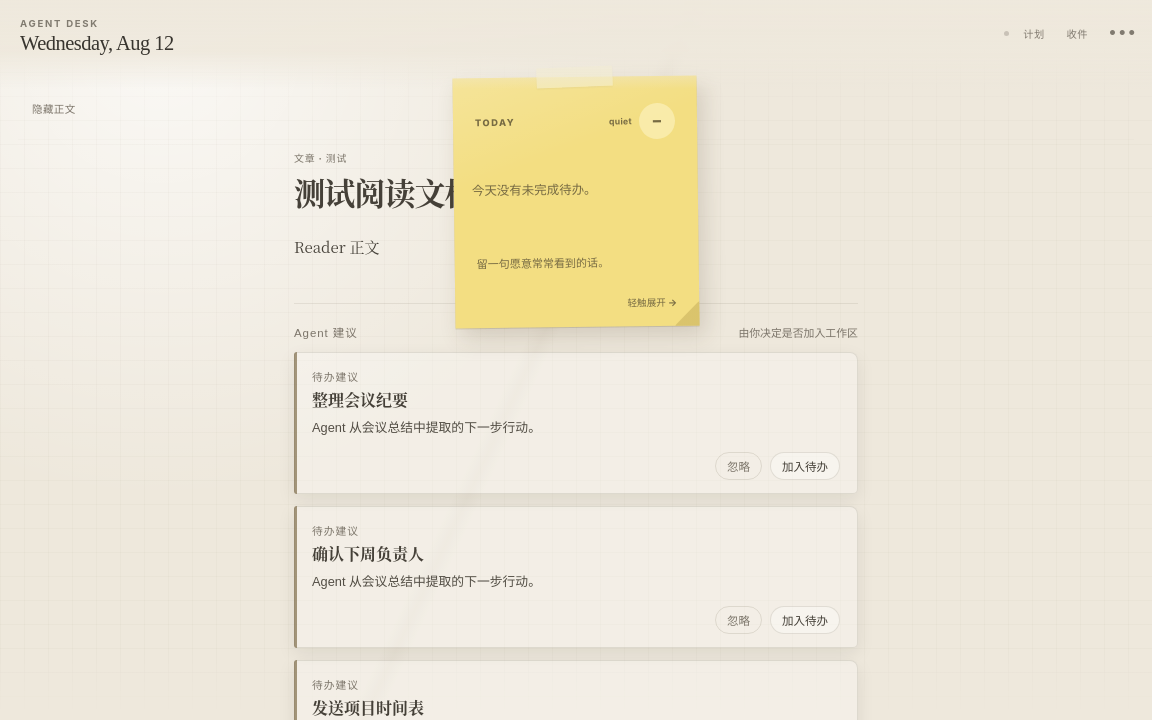
Test: StickyHome M1-B4 › adds three reviewed Agent suggestions to Sticky Todo only after acceptance
Click the 1st button "加入待办".
click(805, 466)  # box [770,452,840,480]
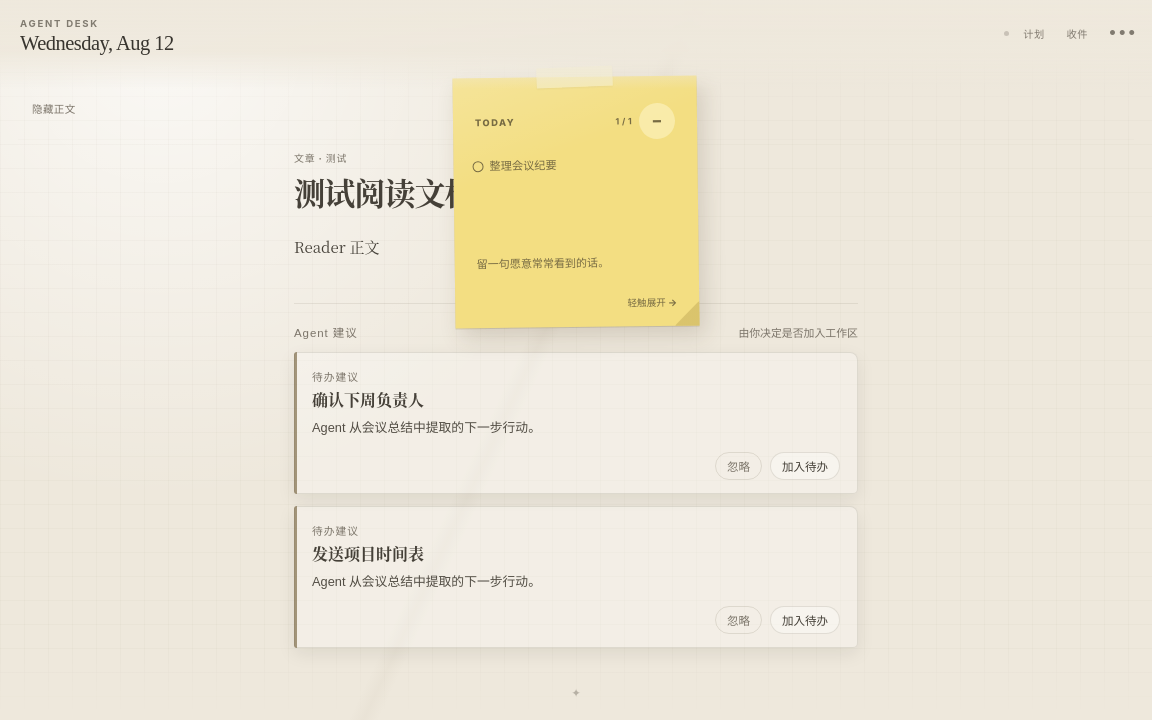
Click the 1st button "加入待办".
click(805, 466)  # box [770,452,840,480]
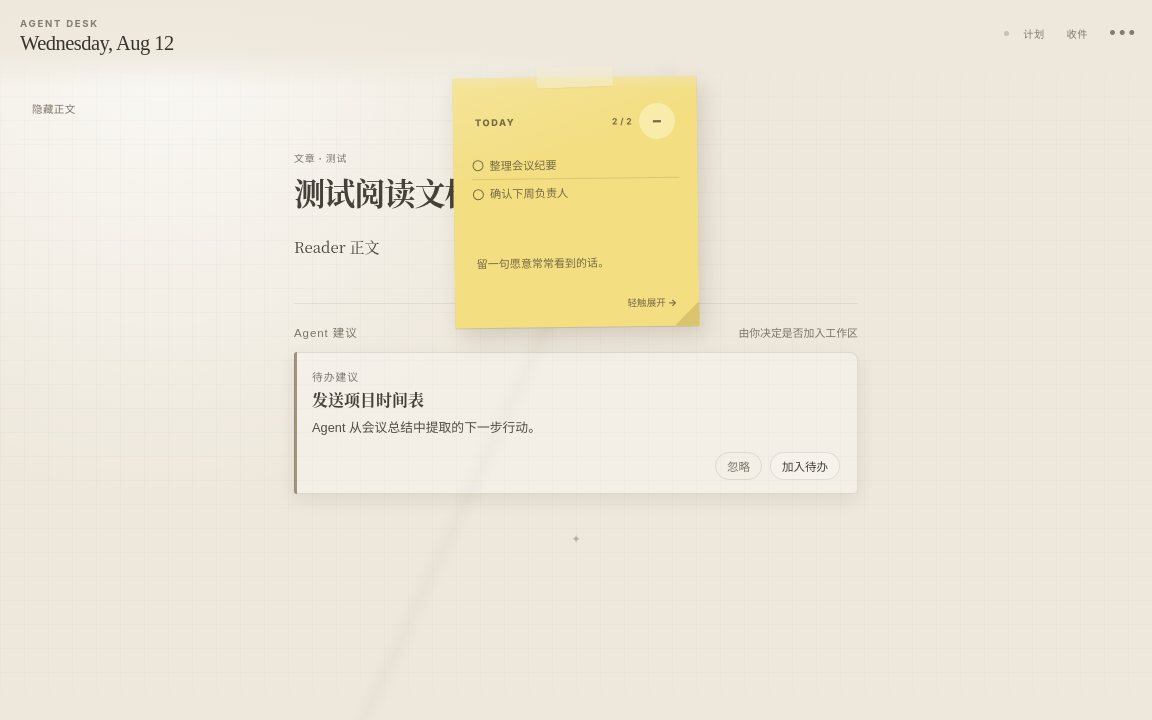
Click the button "加入待办".
click(805, 466)  # box [770,452,840,480]
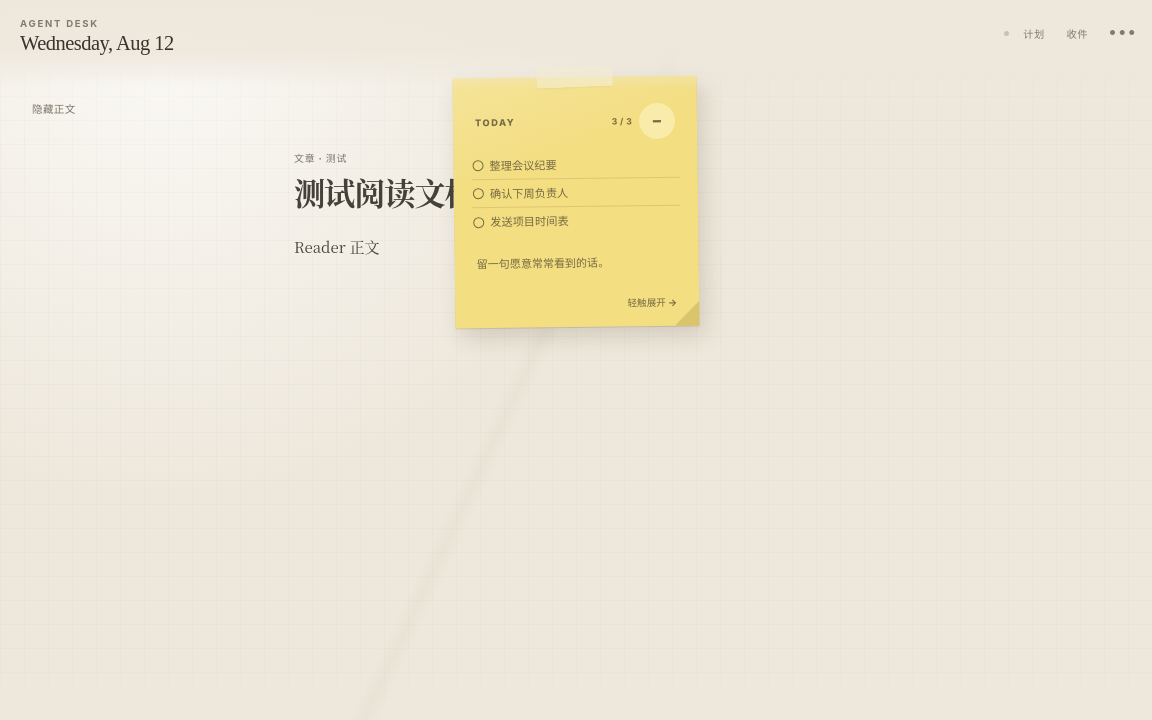
Click the button with aria-label "展开或拖动便利贴".
click(576, 202)  # box [454,77,698,327]
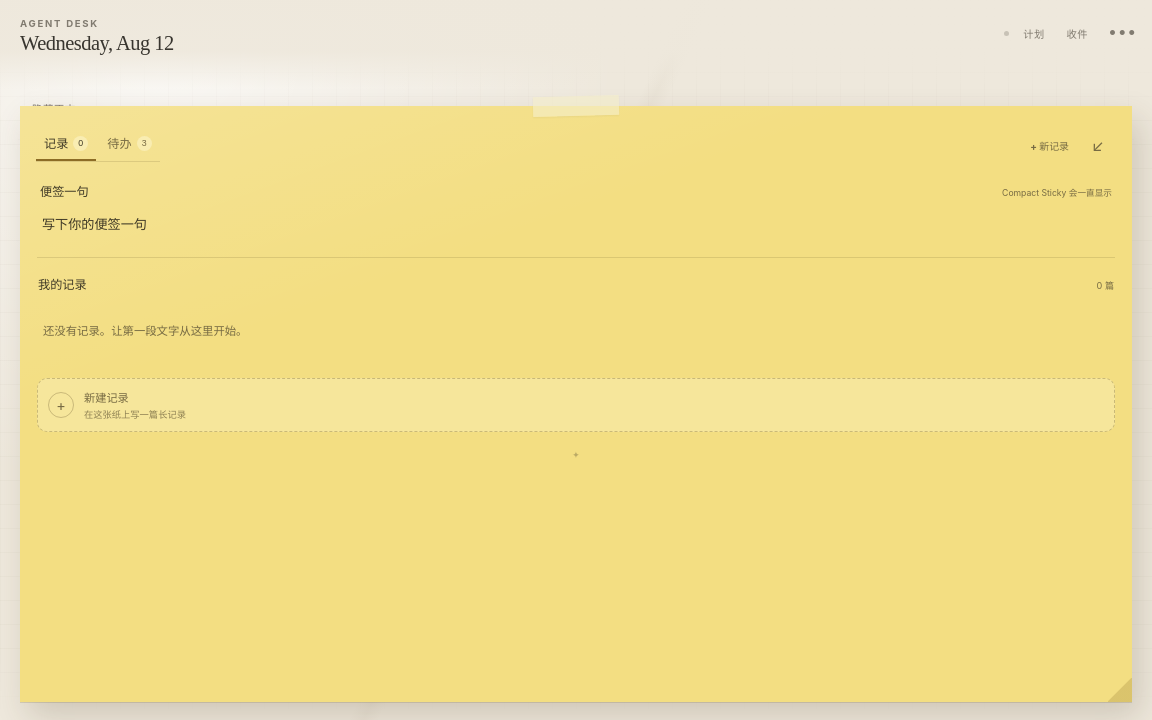
Click the tab "待办 3".
click(129, 144)  # box [99,128,160,161]
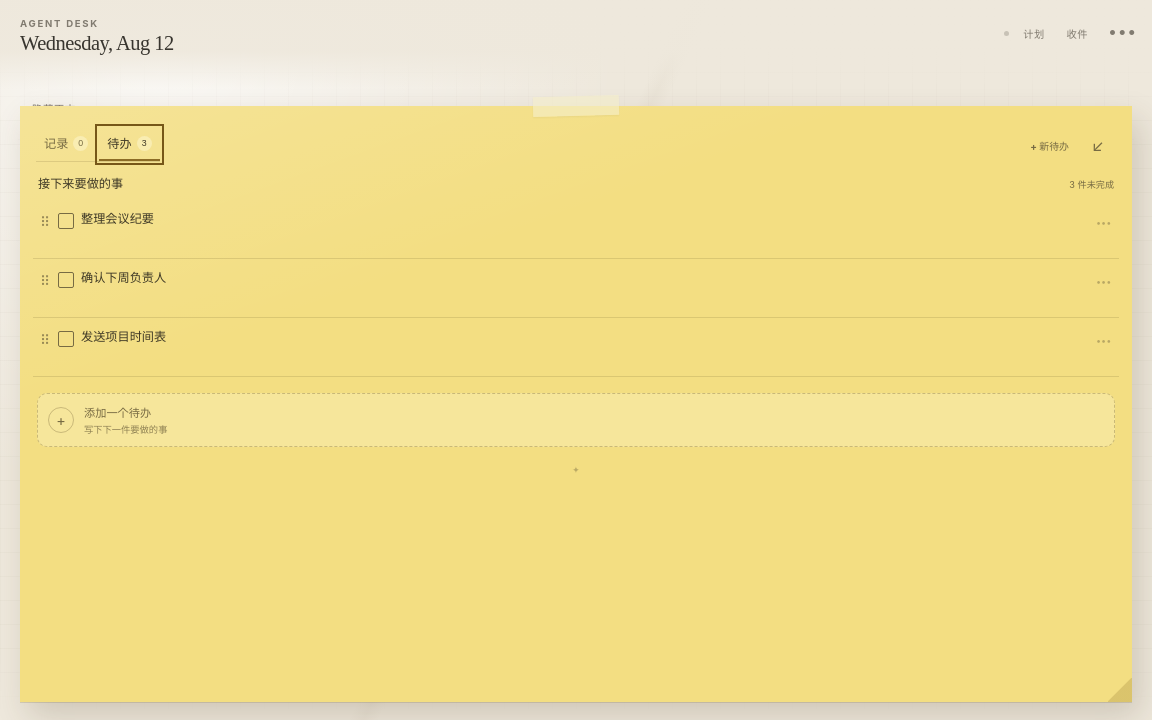
Check: the text "整理会议纪要" is shown, box [81,211,154,226]
Check: the text "确认下周负责人" is shown, box [81,270,166,285]
Check: the text "发送项目时间表" is shown, box [81,329,166,344]
